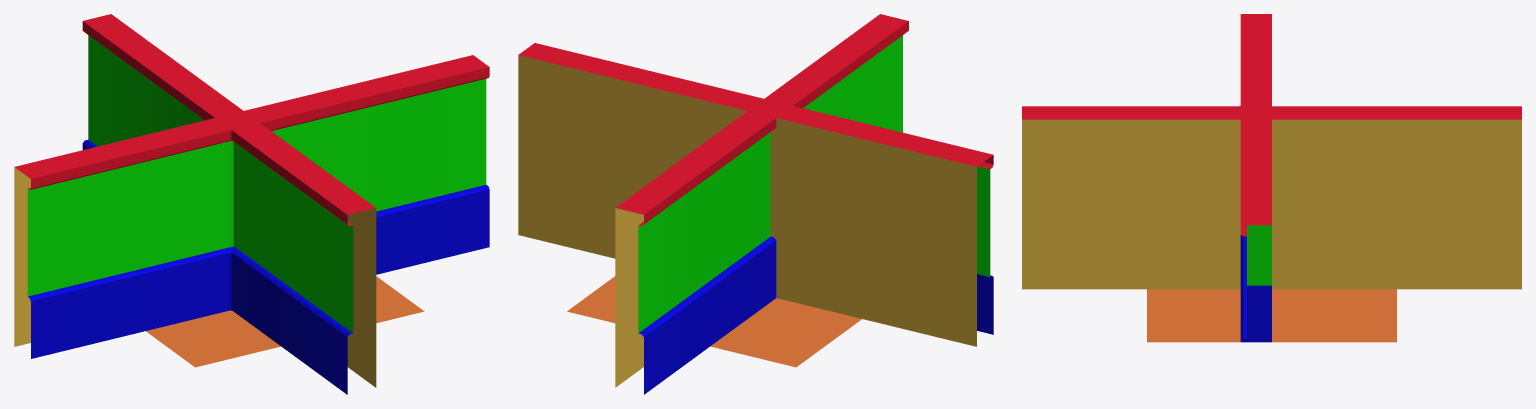
Rendered from ModularWalls.fbx.
The picture shows the model from 3 angles, left to right: view 1: azimuth 30°, elevation 25°; view 2: azimuth 150°, elevation 25°; view 3: azimuth 270°, elevation 25°; orthographic projection. The views are drawn at different scales.
Parts seen in each view (by area): view 1: Type1_WallCornerInside, Type1_WallCornerOutside, Type1_WallNarrowDoor, Plane, Type1_WallWideDoor, Type1_WallWide.002, Type1_WallNarrow; view 2: Type1_WallCornerOutside, Type1_WallCornerInside, Plane, Type1_WallWideDoor, Type1_WallNarrowDoor, Type1_WallNarrow; view 3: Type1_WallCornerOutside, Type1_WallCornerInside, Plane, Type1_WallWide.002, Type1_WallNarrowDoor, Type1_WallWideDoor, Type1_WallNarrow.
Part boxes in pixels (box(x1,y1,x2,y2)): Type1_WallCornerInside: box(14, 111, 376, 394); Type1_WallCornerOutside: box(82, 14, 489, 274); Type1_WallNarrowDoor: box(142, 83, 374, 330); Plane: box(146, 276, 424, 367); Type1_WallWideDoor: box(143, 82, 375, 330); Type1_WallWide.002: box(144, 89, 367, 283); Type1_WallNarrow: box(199, 97, 316, 314); Type1_WallCornerOutside: box(518, 43, 776, 394); Type1_WallCornerInside: box(753, 14, 993, 346); Plane: box(567, 276, 861, 367); Type1_WallWideDoor: box(632, 70, 763, 111); Type1_WallNarrowDoor: box(633, 74, 765, 113); Type1_WallNarrow: box(698, 85, 763, 110); Type1_WallCornerOutside: box(1240, 106, 1521, 340); Type1_WallCornerInside: box(1022, 14, 1271, 289); Plane: box(1147, 289, 1396, 342); Type1_WallWide.002: box(1240, 120, 1271, 342); Type1_WallNarrowDoor: box(1240, 99, 1271, 286); Type1_WallWideDoor: box(1240, 118, 1271, 287); Type1_WallNarrow: box(1240, 119, 1271, 259).
Size of the model in its own units: 800 by 300 by 800.
